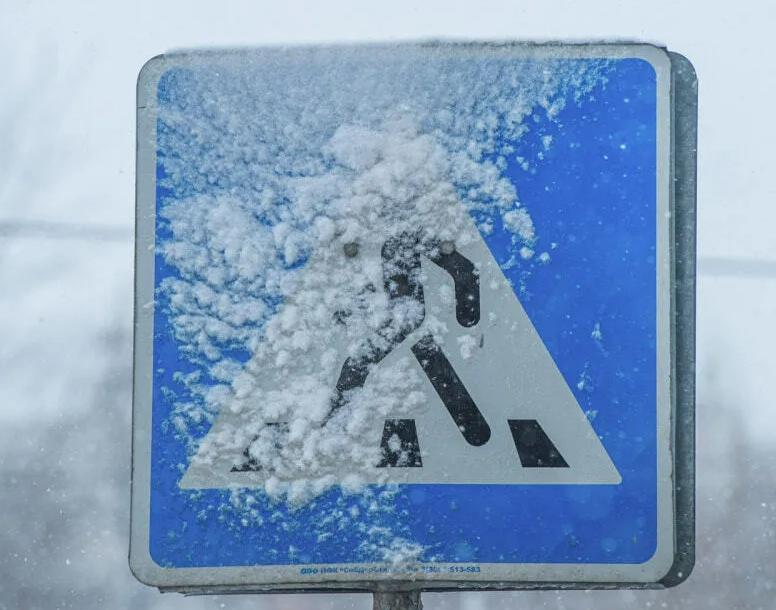obstructed_road_sign: (127, 40, 676, 588)
